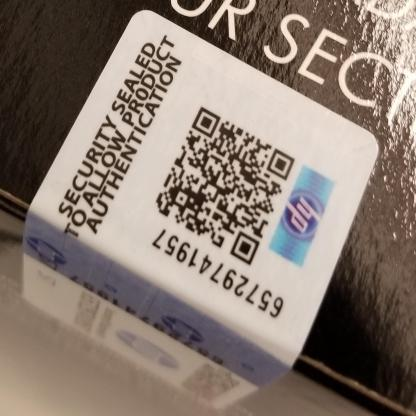qr: (151, 105, 301, 265)
